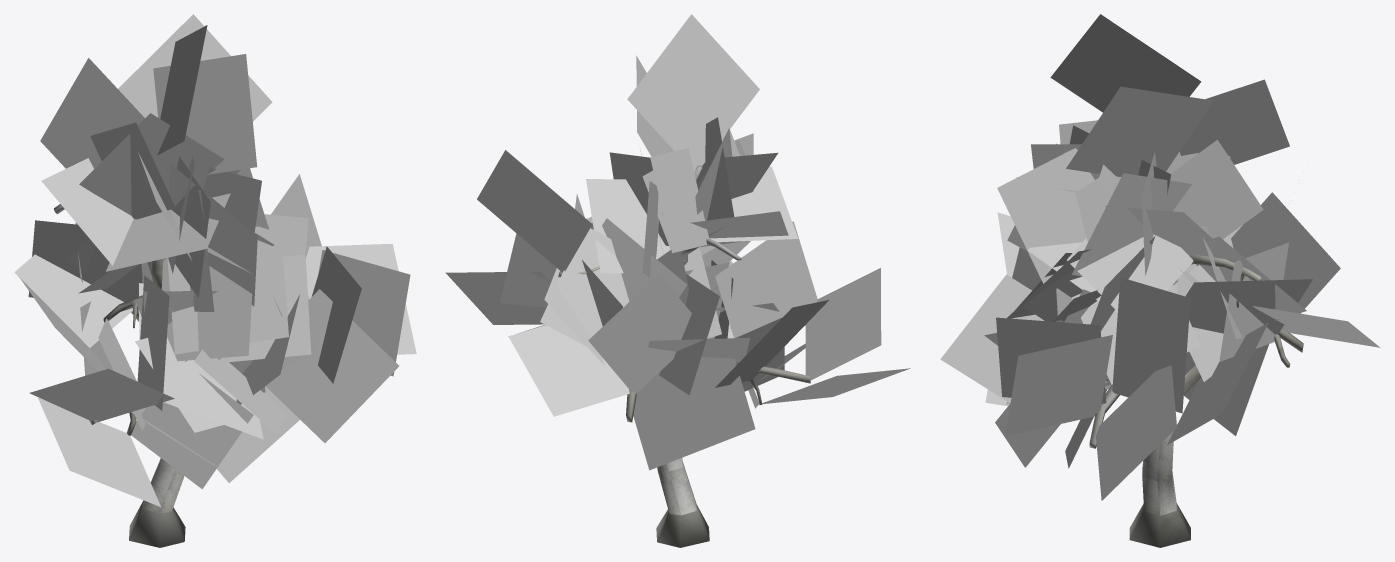
The model's file is deadtree1test 4.fbx.
3 renders of one model, left to right at view 1: azimuth 30°, elevation 25°; view 2: azimuth 150°, elevation 25°; view 3: azimuth 270°, elevation 25°, orthographic. The views are drawn at different scales.
Visible parts, largest first — view 1: Plane.015, Plane.003, Plane.060, Plane.027, Plane.020, Plane.062, Plane.017, Plane.042, Plane.025, Plane.065, Plane.009, Cube (+27 smaller); view 2: Plane.005, Plane.049, Plane.008, Plane.057, Plane.064, Plane.040, Plane.009, Cube, Plane.046, Plane.027, Plane.022, Plane.044 (+21 smaller); view 3: Plane.003, Plane.065, Plane.063, Plane.005, Plane.026, Cube, Plane.012, Plane.027, Plane.054, Plane.064, Plane.033, Plane.007 (+24 smaller).
Boxes of the visible parts, x1,y1,x2,y2 form: Plane.015: [265, 289, 399, 442]; Plane.003: [153, 54, 257, 174]; Plane.060: [38, 397, 160, 506]; Plane.027: [40, 58, 144, 168]; Plane.020: [167, 223, 288, 354]; Plane.062: [131, 373, 253, 489]; Plane.017: [79, 113, 240, 215]; Plane.042: [14, 254, 132, 347]; Plane.025: [161, 259, 252, 361]; Plane.065: [318, 250, 410, 376]; Plane.009: [29, 368, 174, 422]; Cube: [54, 204, 185, 547]; Plane.005: [627, 14, 759, 172]; Plane.049: [633, 357, 755, 470]; Plane.008: [477, 150, 592, 272]; Plane.057: [715, 221, 817, 338]; Plane.064: [588, 274, 691, 393]; Plane.040: [508, 325, 629, 416]; Plane.009: [805, 268, 881, 380]; Cube: [558, 165, 810, 547]; Plane.046: [540, 228, 629, 346]; Plane.027: [650, 148, 709, 253]; Plane.022: [586, 179, 670, 273]; Plane.044: [659, 274, 719, 395]; Plane.003: [1066, 86, 1212, 176]; Plane.065: [1005, 335, 1112, 435]; Plane.063: [1112, 278, 1190, 413]; Plane.005: [1050, 14, 1201, 112]; Plane.026: [997, 148, 1094, 283]; Cube: [1089, 253, 1303, 547]; Plane.012: [1096, 365, 1176, 500]; Plane.027: [1179, 79, 1289, 164]; Plane.054: [1170, 140, 1263, 239]; Plane.064: [1231, 192, 1340, 313]; Plane.033: [940, 274, 1044, 403]; Plane.007: [1072, 173, 1191, 276].
Bounding box in the file's own units: 1732 × 2106 × 1586.
